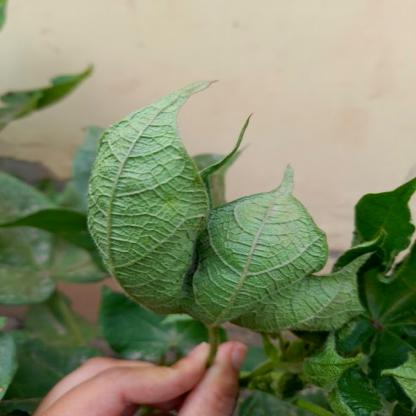curl_stage2: (105, 143, 201, 283), (211, 209, 305, 311), (304, 282, 364, 332), (124, 116, 183, 142)
